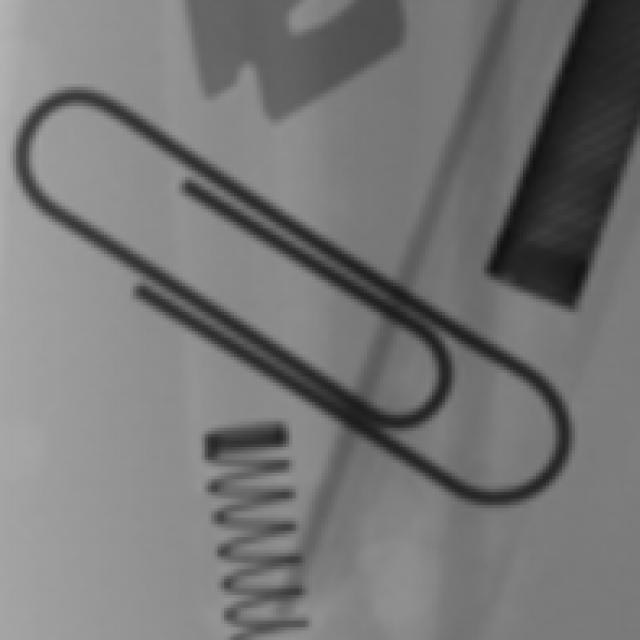GUN: (445, 1, 640, 347), (144, 1, 417, 125)
